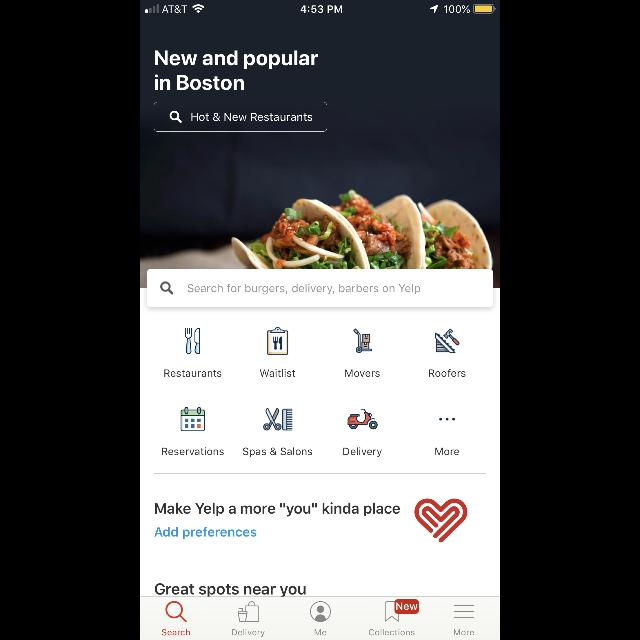icon: (385, 600, 419, 622), (180, 407, 206, 431), (268, 327, 288, 355), (165, 601, 187, 623), (310, 600, 332, 622), (238, 602, 260, 622), (454, 605, 474, 619), (170, 110, 182, 124), (160, 282, 173, 294), (439, 418, 455, 420)
image: (140, 1, 500, 288), (414, 499, 468, 543), (434, 328, 460, 354), (263, 408, 293, 430), (348, 408, 378, 429), (353, 328, 372, 354), (184, 328, 200, 354)
input: (147, 269, 493, 307), (154, 102, 326, 132)
text: (155, 50, 319, 90), (156, 502, 400, 516), (188, 284, 420, 294), (154, 584, 306, 596), (155, 527, 257, 539), (244, 447, 312, 457), (162, 447, 224, 455), (164, 369, 222, 377), (343, 447, 382, 457), (369, 628, 415, 636), (428, 369, 466, 377), (344, 369, 380, 377), (260, 369, 296, 377), (232, 629, 266, 637), (162, 628, 190, 636), (435, 448, 459, 456), (454, 629, 474, 635), (314, 629, 326, 635)
uppertaskbar: (140, 0, 500, 14)
